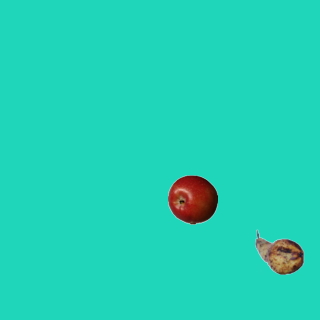Apple Braeburn: (167, 174, 217, 224)
Pear Abate: (254, 227, 304, 277)
